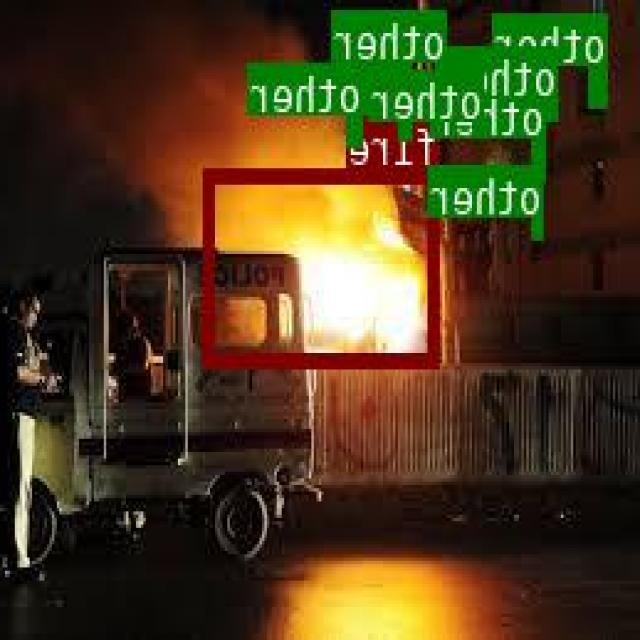fire: (208, 165, 442, 365)
other: (592, 65, 608, 104), (535, 138, 546, 178), (350, 115, 364, 144), (438, 61, 449, 91), (401, 115, 414, 136), (550, 97, 560, 116), (536, 218, 544, 237), (476, 120, 486, 130)
